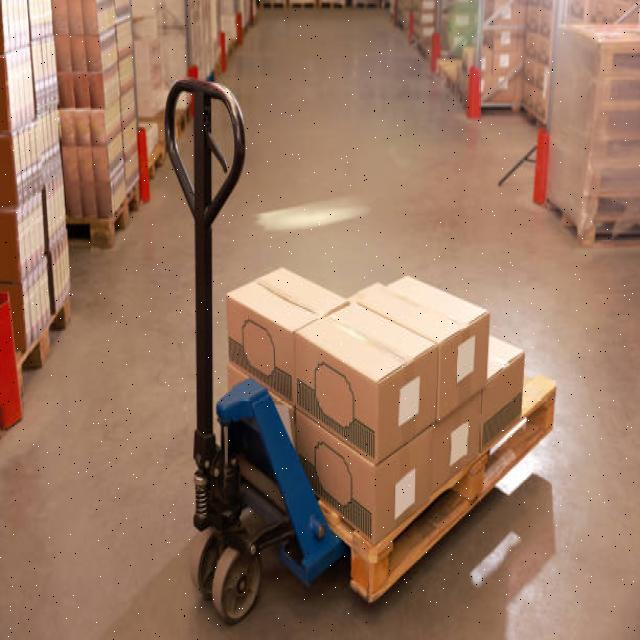Wooden-Pallets: (337, 378, 558, 607), (66, 174, 144, 257)
